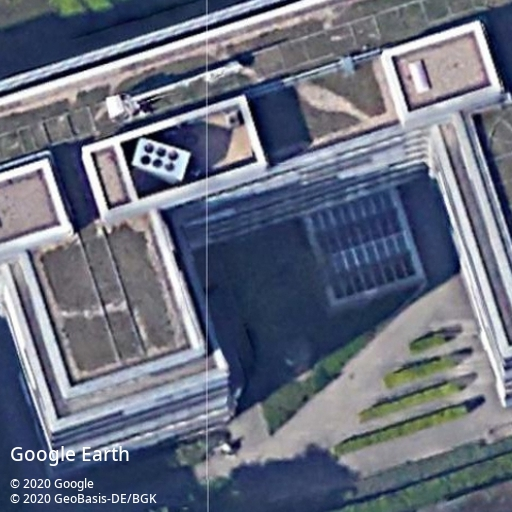Chiller: (130, 137, 193, 184)
